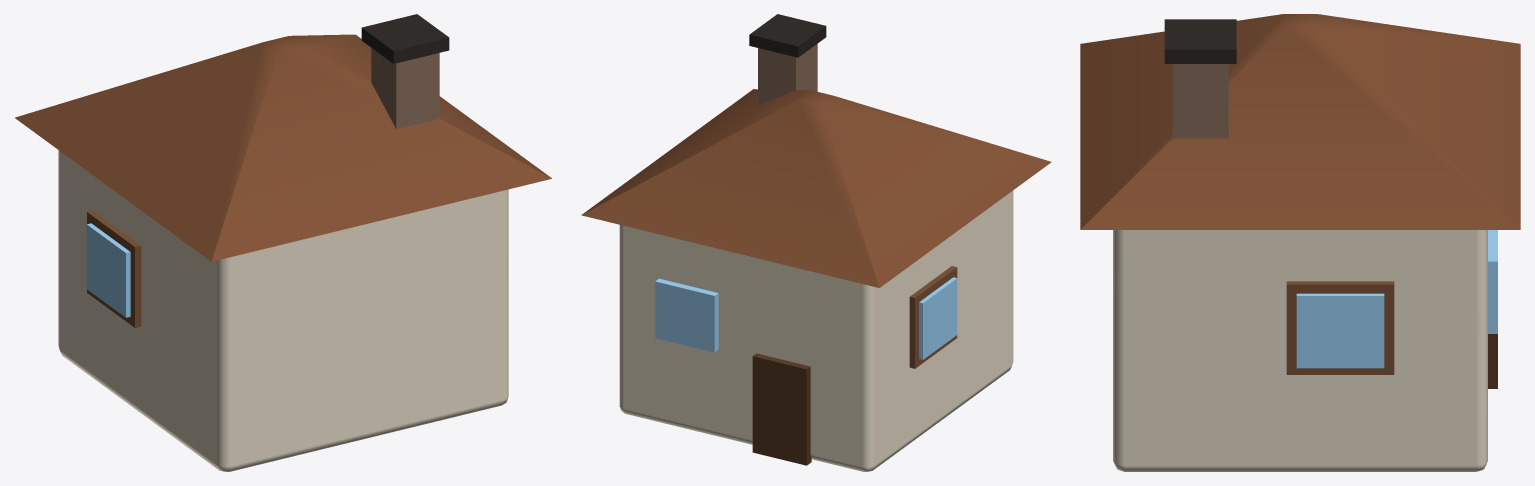
Rendered from prop_house_1.glb.
3 views of the same model, side by side, from view 1: azimuth 30°, elevation 25°; view 2: azimuth 150°, elevation 25°; view 3: azimuth 270°, elevation 25° (orthographic). The views are drawn at different scales.
Visible parts, largest first — view 1: Walls, Roof, Chimney, Window, ChimneyCap, WindowFrame; view 2: Walls, Roof, Door, WindowFront, Chimney, Window, ChimneyCap, WindowFrame; view 3: Roof, Walls, Window.001, Chimney, WindowFrame.001, ChimneyCap, WindowFront, Door.
Part boxes in pixels (x1,y1,x2,y2): Walls: [58, 150, 508, 471]; Roof: [15, 34, 551, 261]; Chimney: [371, 48, 439, 129]; Window: [86, 223, 130, 317]; ChimneyCap: [361, 14, 449, 63]; WindowFrame: [87, 210, 141, 327]; Walls: [619, 190, 1013, 471]; Roof: [581, 89, 1051, 287]; Door: [752, 353, 811, 465]; WindowFront: [655, 278, 718, 352]; Chimney: [758, 44, 817, 105]; Window: [919, 277, 957, 359]; ChimneyCap: [749, 14, 826, 57]; WindowFrame: [909, 266, 957, 368]; Roof: [1080, 14, 1520, 229]; Walls: [1113, 230, 1487, 471]; Window.001: [1296, 293, 1384, 368]; Chimney: [1172, 64, 1228, 138]; WindowFrame.001: [1286, 281, 1394, 374]; ChimneyCap: [1164, 19, 1236, 63]; WindowFront: [1488, 230, 1497, 333]; Door: [1488, 334, 1497, 388].
Size of the model in its own units: 1.1 by 1.12 by 1.1.
